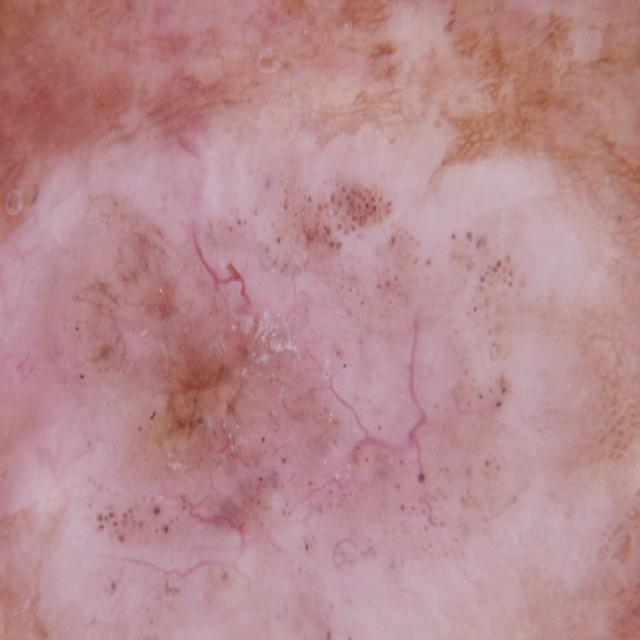Carcinoma: (13, 159, 584, 640)
